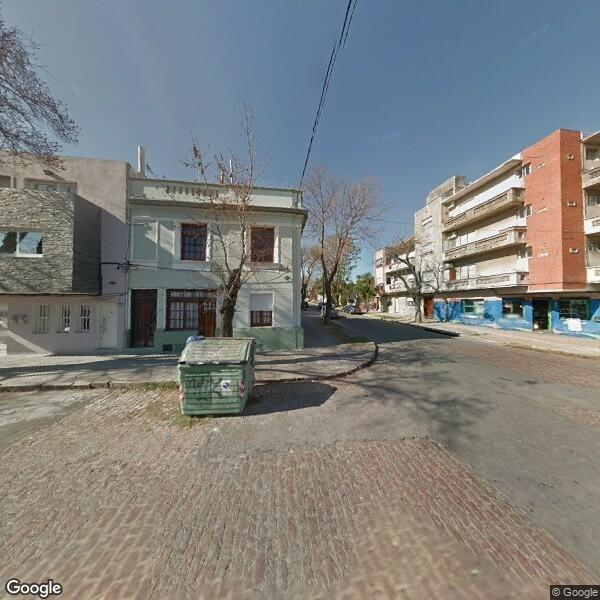Trash: (175, 334, 257, 419)
